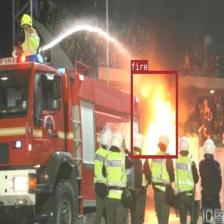fire: (130, 70, 178, 158)
